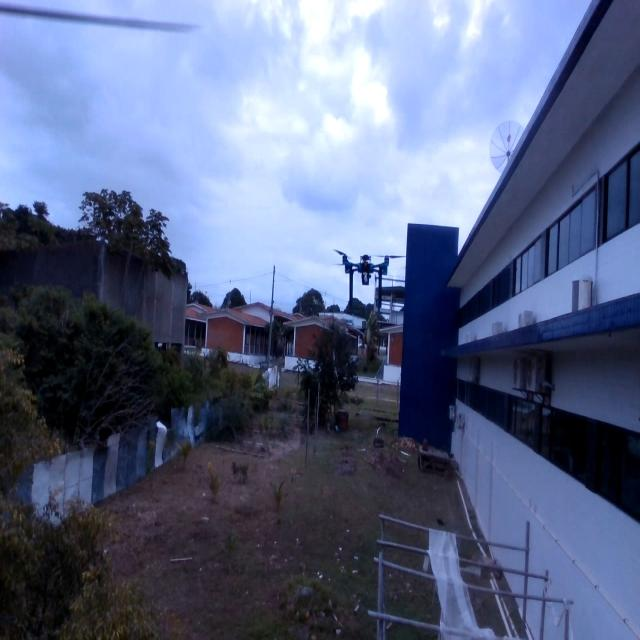-uav-: (328, 238, 410, 322)
